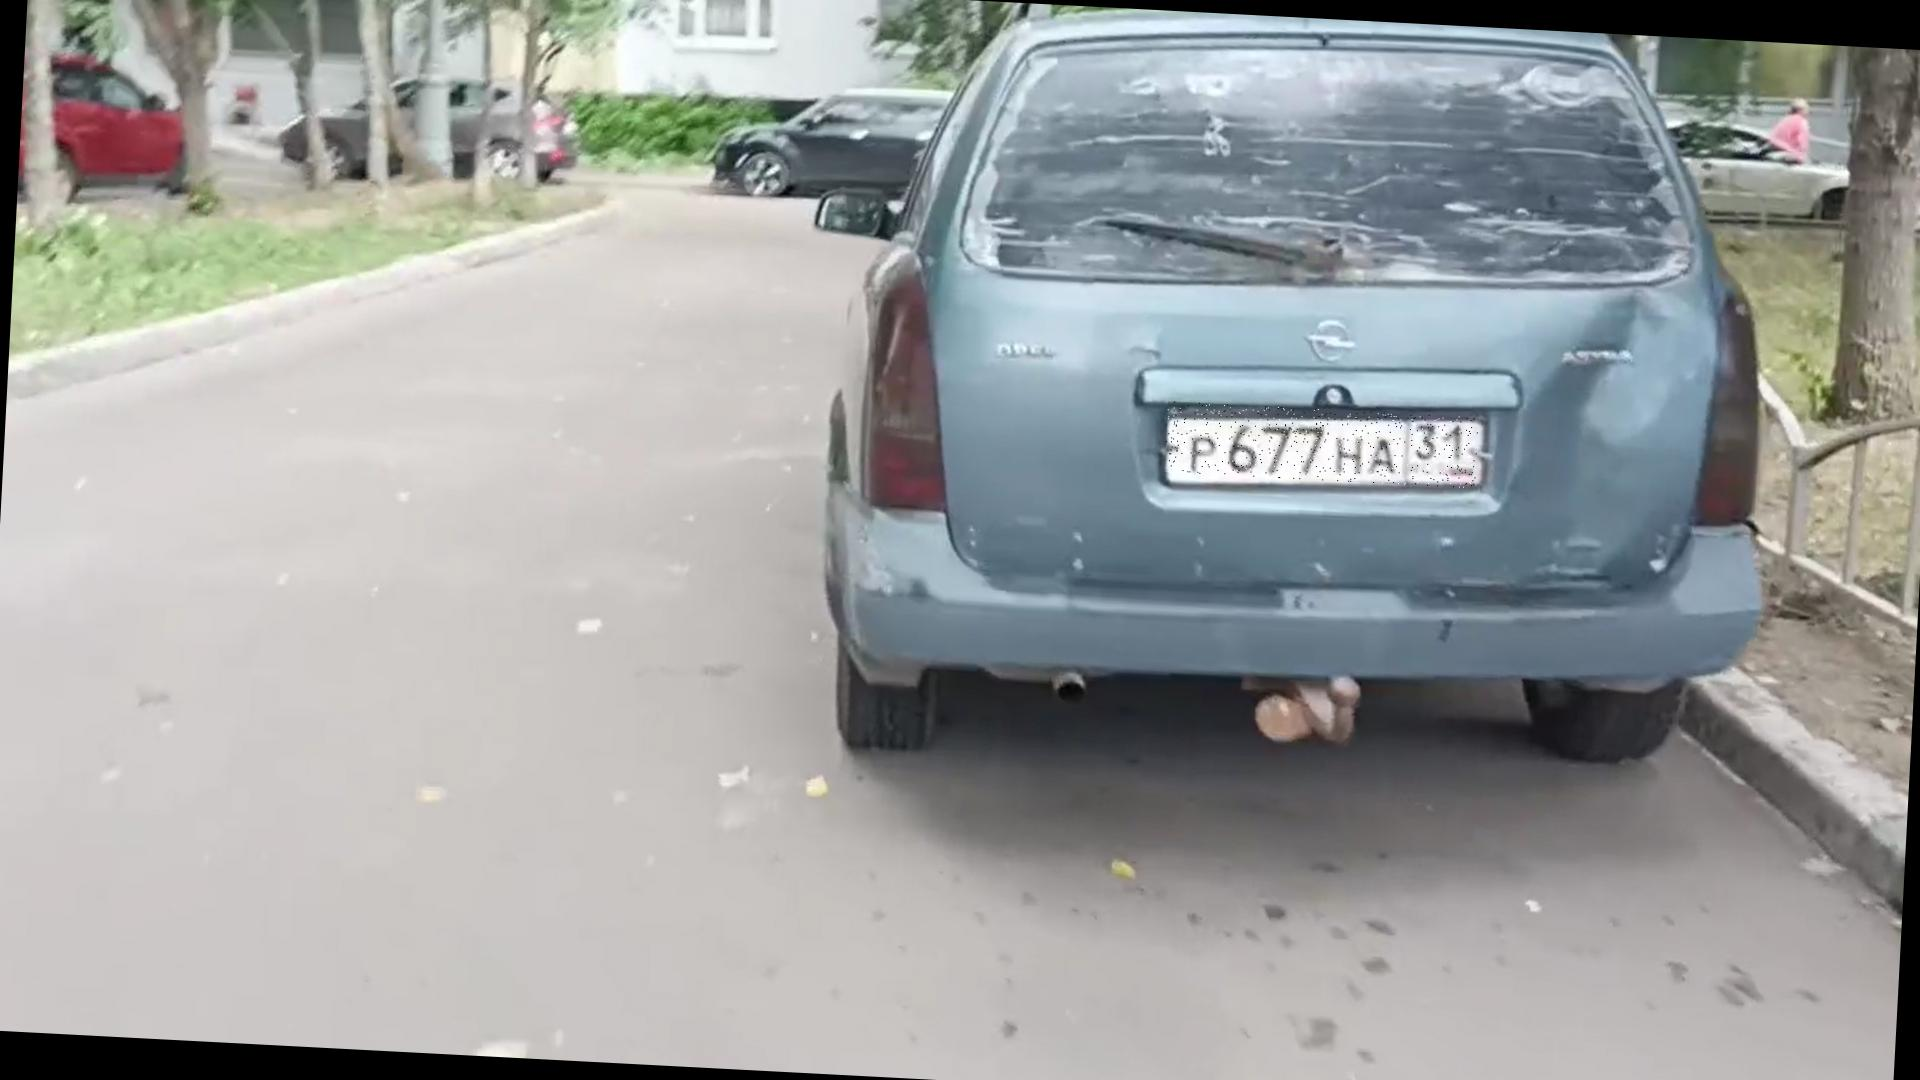plate: (1166, 403, 1480, 490)
